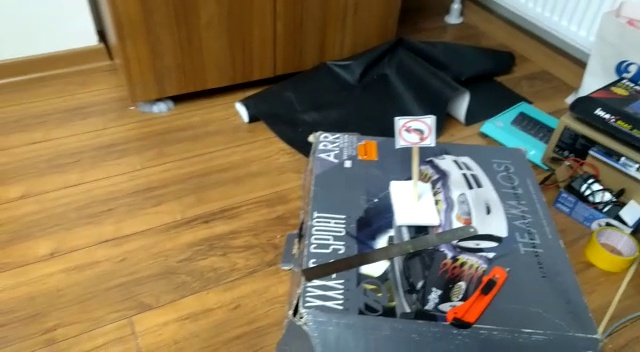sola_donulmez: (396, 115, 435, 148)
